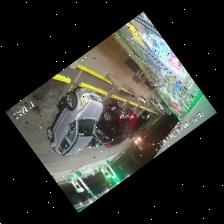person: (151, 97, 164, 111), (108, 99, 120, 112), (56, 98, 66, 112)
